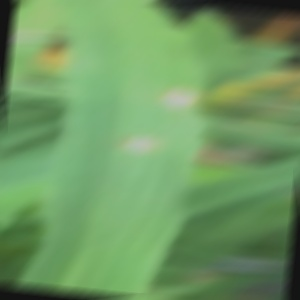Brown_Spot: (106, 128, 175, 167), (159, 85, 211, 117)
